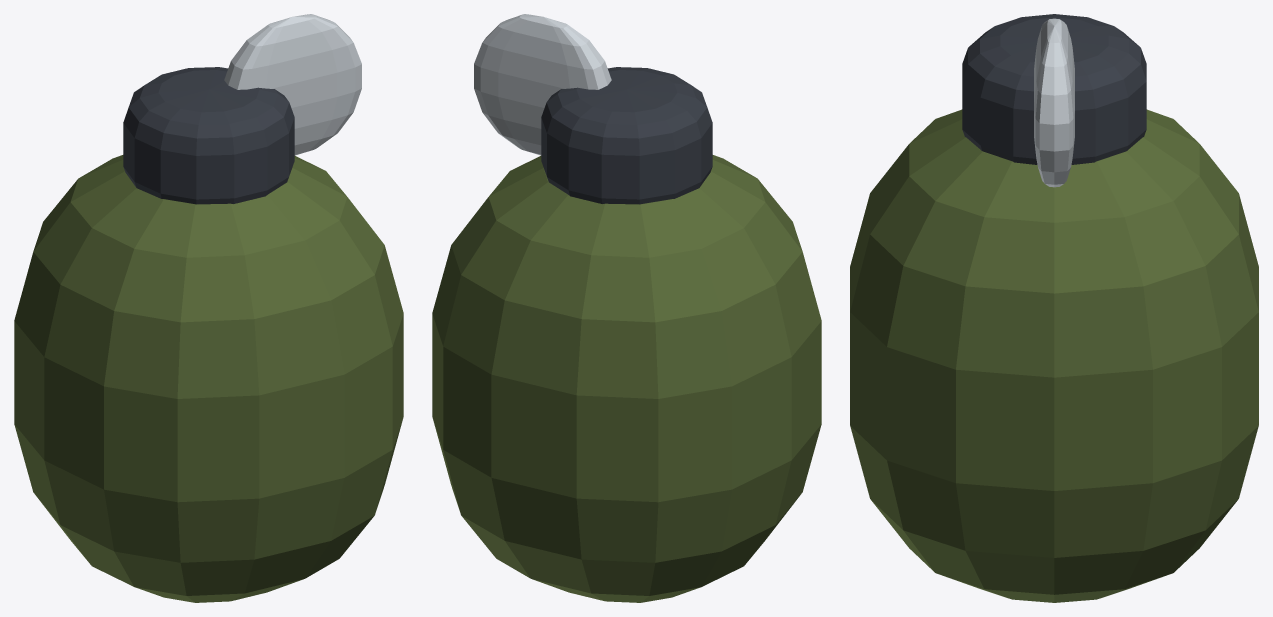
The model's file is grenade.glb.
3 views of the same model, side by side, from view 1: azimuth 30°, elevation 25°; view 2: azimuth 150°, elevation 25°; view 3: azimuth 270°, elevation 25° (orthographic). The views are drawn at different scales.
Parts seen in each view (by area): view 1: grenade; view 2: grenade; view 3: grenade.
Boxes of the visible parts, x1,y1,x2,y2 form: grenade: [14, 14, 403, 602]; grenade: [432, 14, 821, 602]; grenade: [850, 14, 1258, 602].
Bounding box in the file's own units: 0.1976 × 0.31 × 0.1931.
